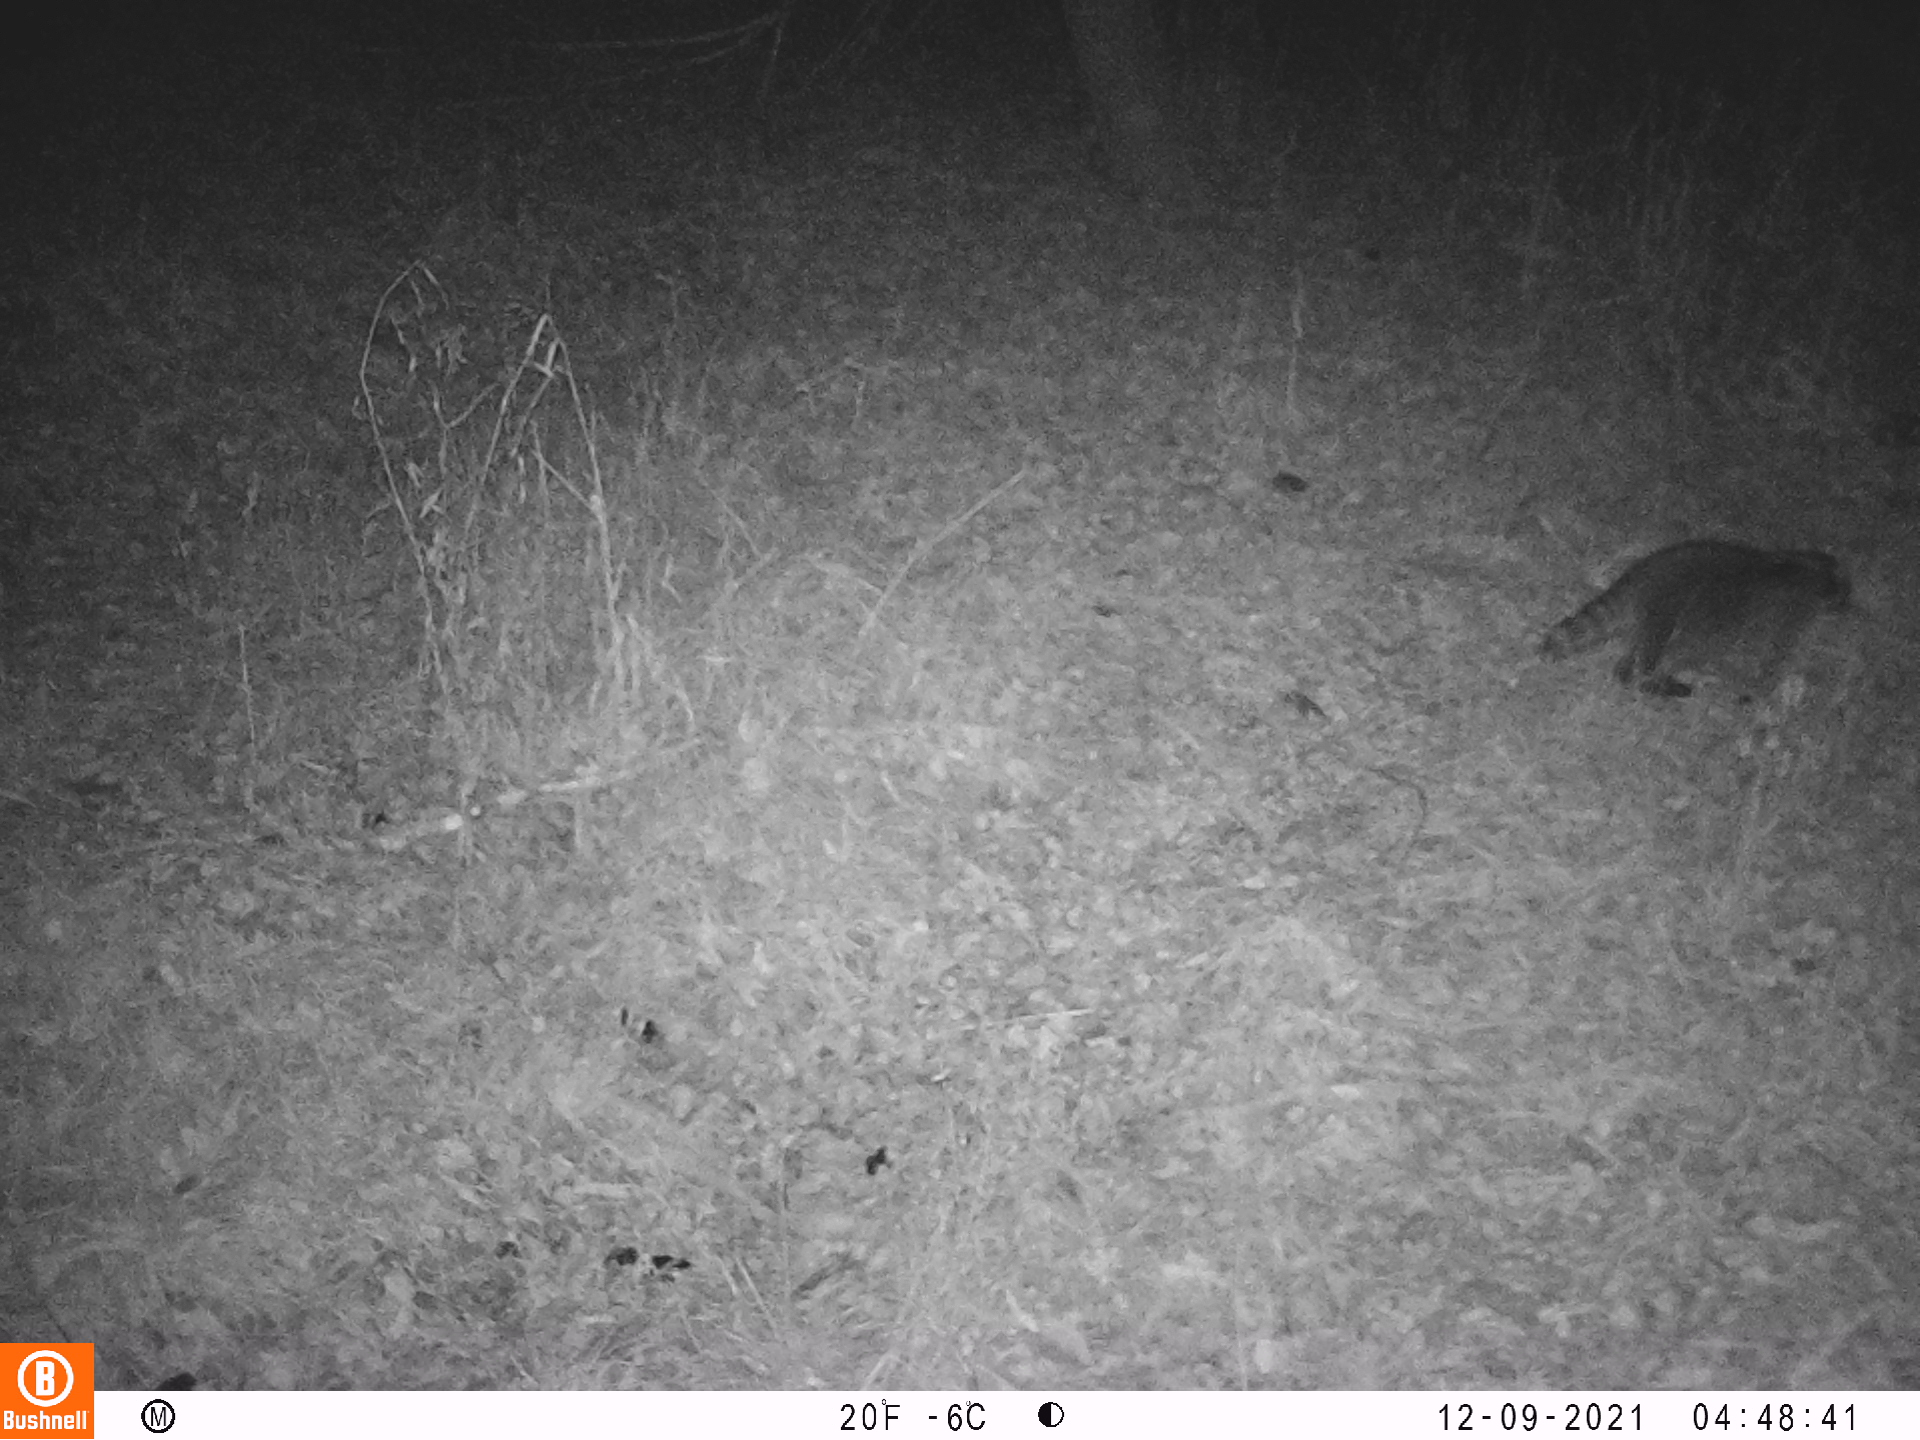Raccoon: (1541, 534, 1857, 699)
